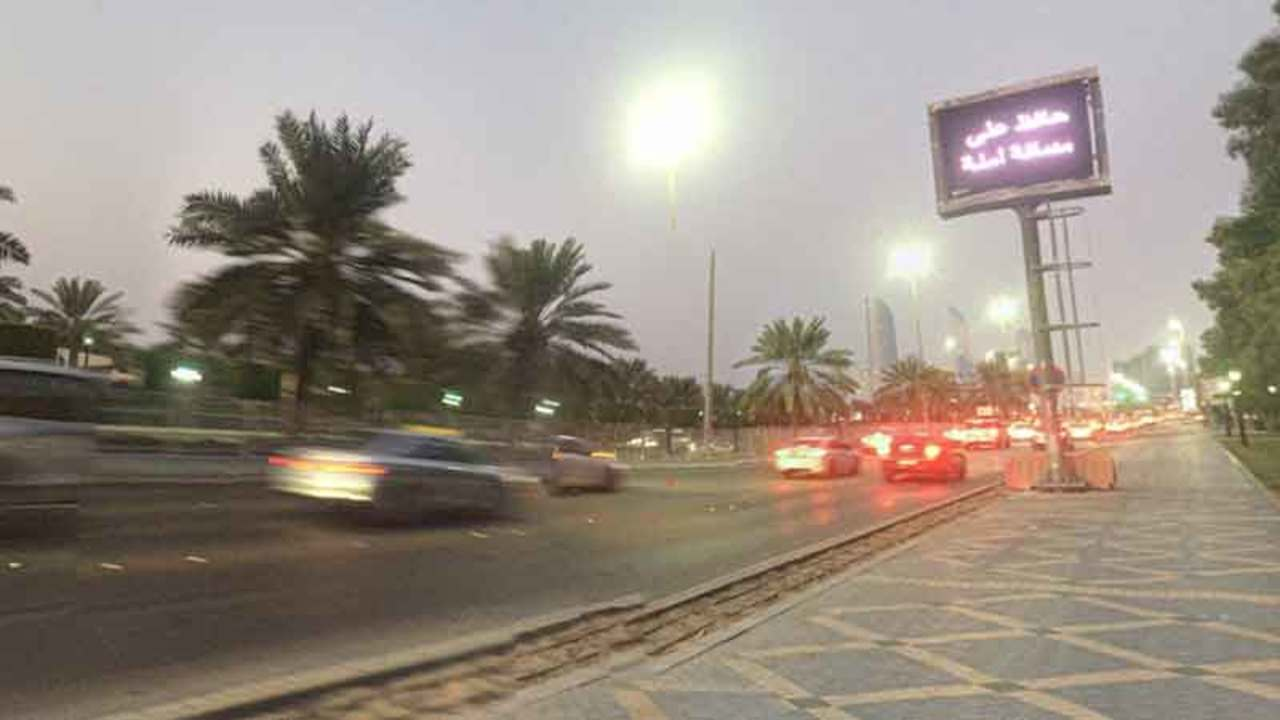car: (258, 427, 513, 525), (500, 427, 616, 500), (876, 432, 969, 482), (773, 435, 861, 478), (621, 429, 684, 460), (961, 419, 1008, 450)
